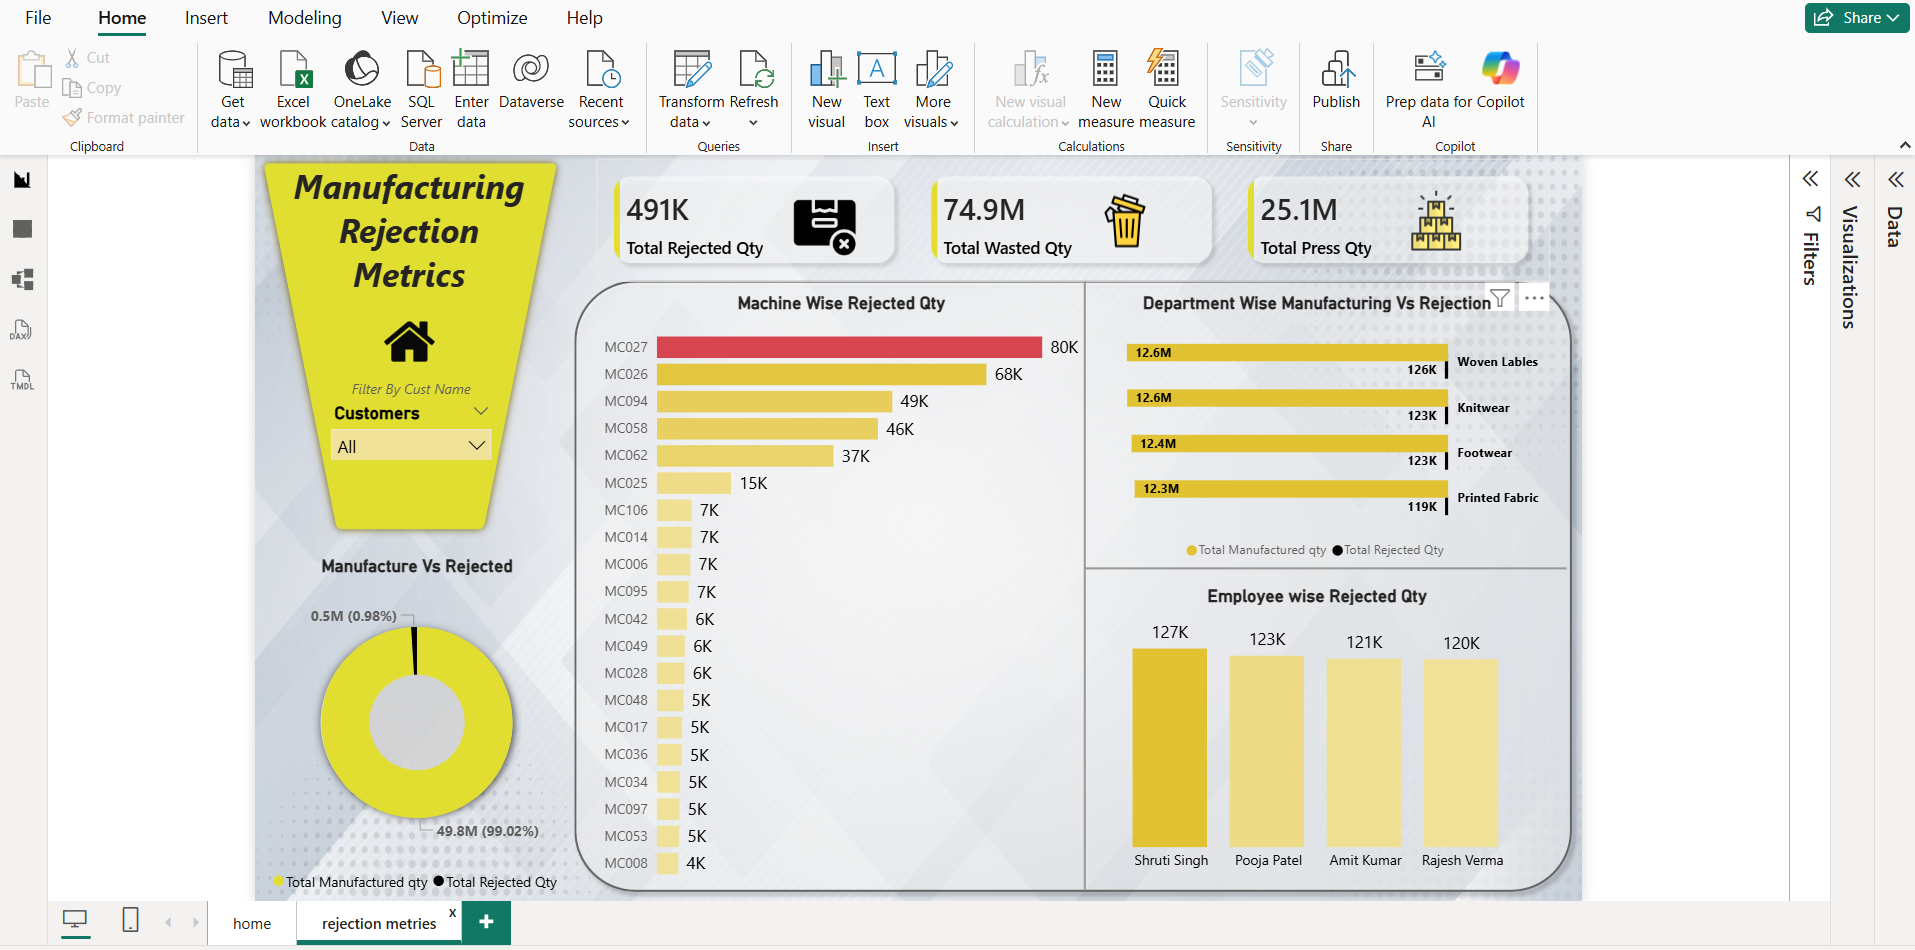

Layout of this report page (visuals, bound fields, positions):
{"tool":"powerbi","page":{"name":"rejection metries","canvas":[1280,720],"ordinal":1},"visuals":[{"type":"shape","box":[299.1,112.7,980.9,608],"z":0},{"type":"shape","box":[54.3,449.4,203.1,197.6],"z":1000},{"type":"shape","box":[0,0,299.6,369.3],"z":2000},{"type":"textbox","box":[28.1,3.7,242.1,144.3],"z":3000},{"type":"columnChart","title":"Employee wise Rejected Qty","fields":{"Y":["Sum(Sheet1.Rejected Qty)"],"Category":["Sheet1.Emp Name"]},"box":[804.2,414.6,441,285.2],"z":4000},{"type":"clusteredBarChart","title":"Machine Wise Rejected Qty","fields":{"Category":["Sheet1.Machine Code"],"Y":["Sum(Sheet1.Rejected Qty)"]},"box":[328.3,132.2,475.8,577.4],"z":5000},{"type":"cardVisual","fields":{"Data":["Sum(Sheet1.Rejected Qty)","Sum(Sheet1.WO Qty)","Sum(Sheet1.Press Qty)"]},"box":[329.6,3.7,919.8,118.5],"z":6000},{"type":"donutChart","title":"Manufacture Vs Rejected","fields":{"Y":["Sum(Sheet1.today Manufactured qty)","Sum(Sheet1.Rejected Qty)"]},"box":[0,386.4,313,333.8],"z":7000},{"type":"clusteredBarChart","title":"Department Wise Manufacturing Vs Rejection","fields":{"Category":["Sheet1.Department Name"],"Y":["Sum(Sheet1.today Manufactured qty)","Sum(Sheet1.Rejected Qty)"]},"box":[804.2,132.2,441,267.1],"z":8000},{"type":"image","box":[118.6,150.4,62.4,58.7],"z":9000},{"type":"slicer","fields":{"Values":["Sheet1.Cust Name"]},"box":[68.8,216,164.1,78.4],"z":10000},{"type":"shape","box":[801.4,384,464.7,30.6],"z":11000},{"type":"shape","box":[784.7,122.4,33.4,587.1],"z":12000},{"type":"image","box":[1060.5,27.2,159.3,71.6],"z":13000},{"type":"image","box":[763,27.2,154.3,71.6],"z":14000},{"type":"image","box":[497.5,27.2,104.9,85.2],"z":15000}]}

Visuals, with their boxes on the page's 1280x720 design canvas (x1, y1, x2, y2). These are canvas units, not pixel positions in the 1915x950 screenshot, which may show the page scaled, cropped or inside an application window:
shape: 299,113,1280,721
shape: 54,449,257,647
shape: 0,0,300,369
textbox: 28,4,270,148
"Employee wise Rejected Qty" columnChart: 804,415,1245,700
"Machine Wise Rejected Qty" clusteredBarChart: 328,132,804,710
cardVisual - Sum(Sheet1.Rejected Qty) x Sum(Sheet1.WO Qty): 330,4,1249,122
"Manufacture Vs Rejected" donutChart: 0,386,313,720
"Department Wise Manufacturing Vs Rejection" clusteredBarChart: 804,132,1245,399
image: 119,150,181,209
slicer - Sheet1.Cust Name: 69,216,233,294
shape: 801,384,1266,415
shape: 785,122,818,710
image: 1060,27,1220,99
image: 763,27,917,99
image: 498,27,602,112
